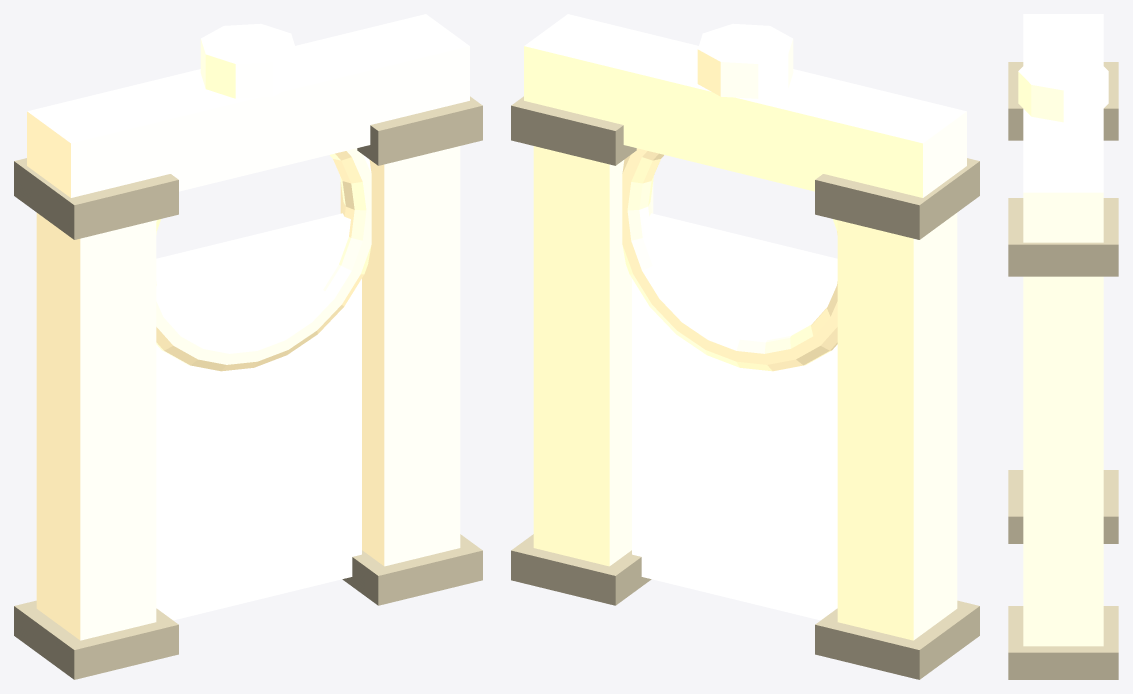
The model's file is celestial_gate.glb.
3 renders of one model, left to right at view 1: azimuth 30°, elevation 25°; view 2: azimuth 150°, elevation 25°; view 3: azimuth 270°, elevation 25°, orthographic. The views are drawn at different scales.
Parts seen in each view (by area): view 1: celestial_gate_8, celestial_gate_0, celestial_gate_6, celestial_gate_3, celestial_gate_9, celestial_gate_2, celestial_gate_1, celestial_gate_7, celestial_gate_4, celestial_gate_5; view 2: celestial_gate_8, celestial_gate_0, celestial_gate_6, celestial_gate_3, celestial_gate_9, celestial_gate_2, celestial_gate_1, celestial_gate_7, celestial_gate_4, celestial_gate_5; view 3: celestial_gate_3, celestial_gate_6, celestial_gate_7, celestial_gate_5, celestial_gate_4, celestial_gate_1, celestial_gate_2.
Boxes of the visible parts, x1,y1,x2,y2 form: celestial_gate_8: [156, 213, 361, 620]; celestial_gate_0: [36, 213, 156, 640]; celestial_gate_6: [27, 14, 469, 197]; celestial_gate_3: [340, 146, 460, 566]; celestial_gate_9: [156, 148, 371, 371]; celestial_gate_2: [14, 158, 178, 239]; celestial_gate_1: [14, 600, 178, 679]; celestial_gate_7: [200, 23, 296, 98]; celestial_gate_4: [342, 534, 482, 605]; celestial_gate_5: [357, 96, 482, 165]; celestial_gate_8: [632, 213, 837, 620]; celestial_gate_0: [837, 213, 957, 640]; celestial_gate_6: [524, 14, 966, 197]; celestial_gate_3: [533, 146, 653, 566]; celestial_gate_9: [622, 148, 837, 371]; celestial_gate_2: [815, 158, 979, 239]; celestial_gate_1: [815, 600, 979, 679]; celestial_gate_7: [697, 23, 793, 98]; celestial_gate_4: [511, 534, 651, 605]; celestial_gate_5: [511, 96, 636, 165]; celestial_gate_3: [1023, 276, 1103, 646]; celestial_gate_6: [1023, 14, 1103, 242]; celestial_gate_7: [1018, 52, 1108, 122]; celestial_gate_5: [1008, 198, 1118, 276]; celestial_gate_4: [1008, 606, 1118, 679]; celestial_gate_1: [1008, 470, 1118, 543]; celestial_gate_2: [1008, 62, 1118, 140].
Bounding box in the file's own units: 8.6 × 11.35 × 2.2.
